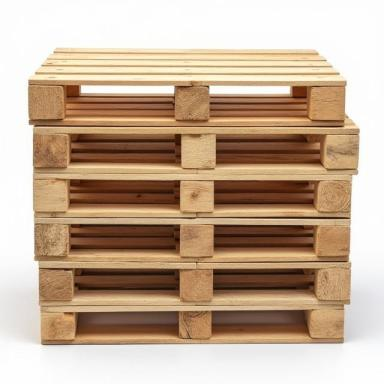pallet: (28, 47, 347, 127), (33, 113, 360, 175), (33, 173, 352, 219), (38, 261, 352, 306), (34, 218, 351, 262), (40, 305, 344, 345), (214, 181, 315, 214), (70, 180, 174, 202), (213, 268, 308, 290), (212, 310, 306, 332), (73, 281, 178, 299), (209, 86, 290, 105), (77, 311, 179, 326), (71, 224, 174, 237), (214, 225, 313, 237), (71, 134, 175, 143), (81, 85, 174, 95), (75, 268, 174, 276), (216, 134, 308, 142)
